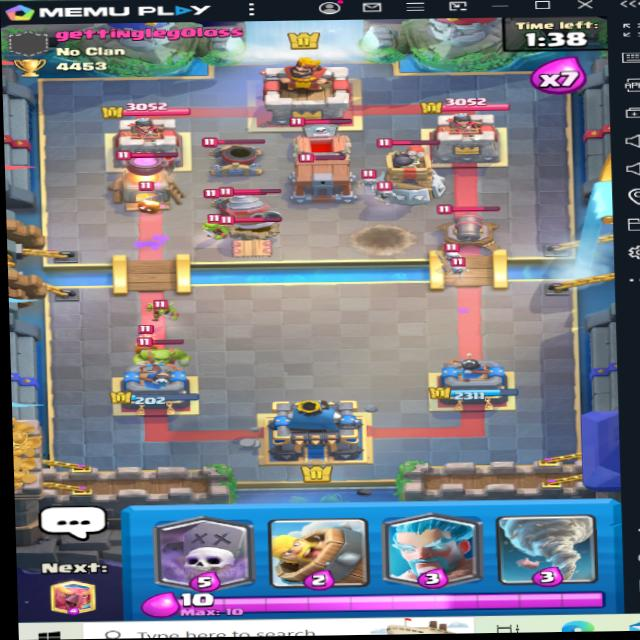bomb-tower: (375, 137, 447, 204)
brawler: (118, 333, 193, 377)
cannon: (430, 202, 514, 251)
fire-spirit: (124, 325, 164, 357), (129, 190, 166, 215)
furnace: (106, 146, 186, 210)
goblin: (138, 287, 177, 320), (203, 210, 232, 241)
goblin-cage: (288, 150, 362, 204)
goblin-drill: (213, 181, 292, 241)
mortar: (197, 132, 271, 182)
skeleton: (440, 253, 476, 280), (434, 242, 466, 270), (369, 180, 396, 202)
tesla-closed: (208, 212, 291, 263)
tombstone: (281, 114, 356, 166)
